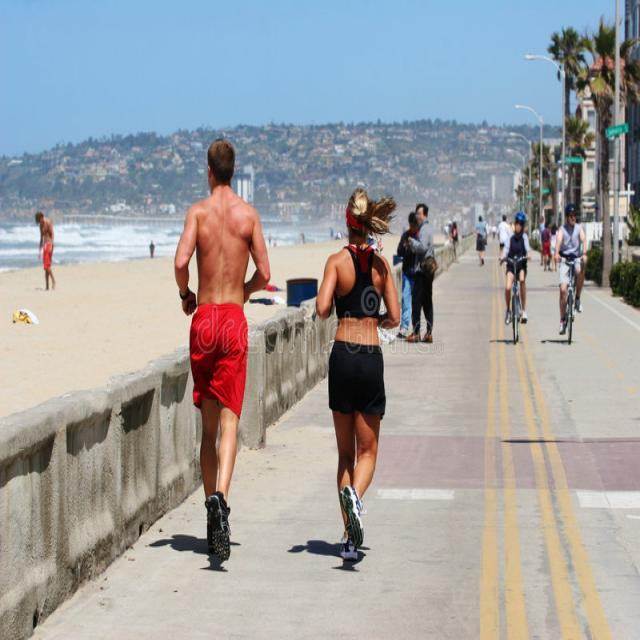running: (170, 136, 272, 562), (318, 181, 405, 566)
